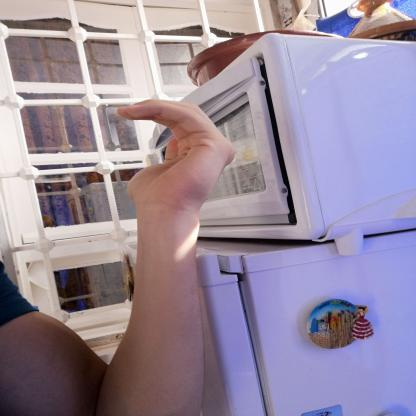HAA: (103, 87, 247, 217)
